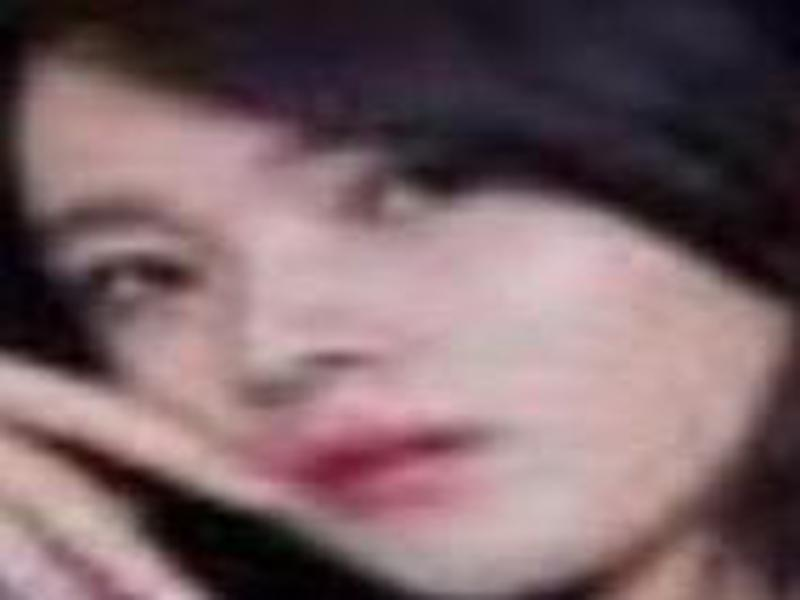without_mask: (12, 36, 776, 584)
